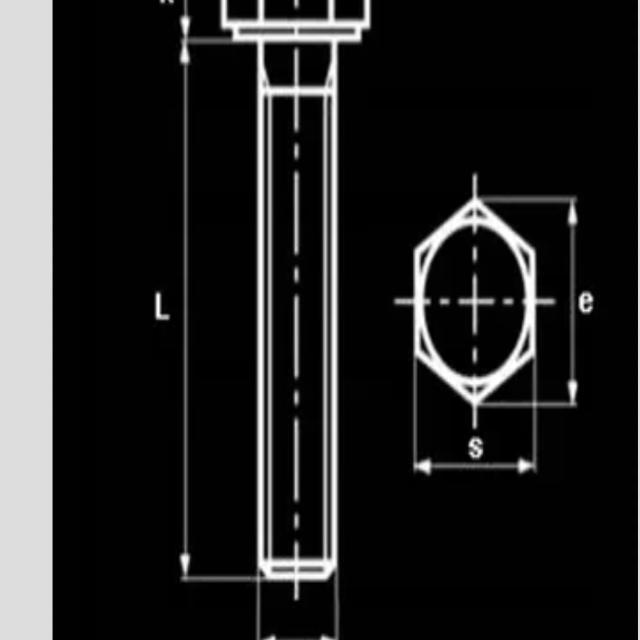marking_line: (176, 41, 197, 574), (568, 206, 579, 405), (419, 457, 533, 476)
